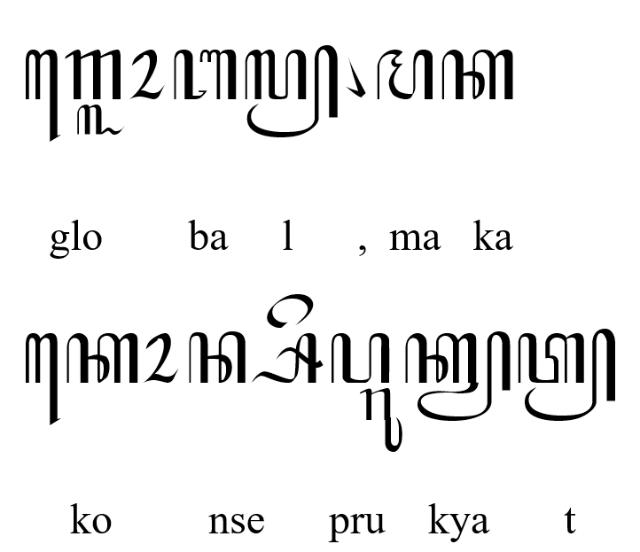-l: (244, 45, 340, 139)
-t: (517, 326, 617, 422)
_l: (76, 104, 124, 135)
_s: (252, 331, 324, 384)
b: (172, 49, 238, 101)
e: (266, 293, 314, 329)
e1: (24, 332, 62, 426), (26, 49, 60, 143)
g: (65, 48, 122, 100)
k: (440, 48, 514, 101), (65, 332, 138, 384)
kom: (346, 57, 366, 98)
ky: (403, 330, 512, 422)
m: (376, 48, 434, 100)
n: (188, 330, 246, 384)
o: (140, 332, 180, 384), (129, 48, 165, 100)
p: (330, 332, 390, 386)
ru: (358, 388, 404, 452)
